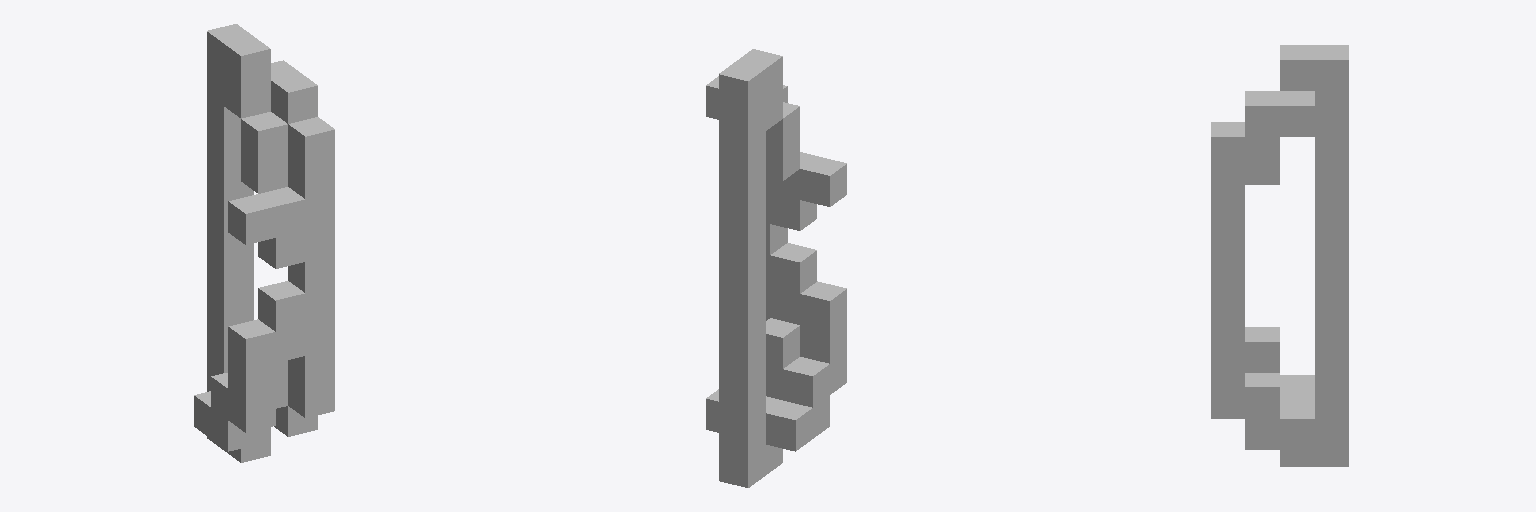
File: Bow.obj
The picture shows the model from 3 angles: view 1: azimuth 30°, elevation 25°; view 2: azimuth 150°, elevation 25°; view 3: azimuth 270°, elevation 25°; orthographic projection.
Parts seen in each view (by area): view 1: object 1; view 2: object 1; view 3: object 1.
Boxes of the visible parts, box(x1,y1,x2,y2) form: object 1: box(194, 24, 334, 462); object 1: box(706, 49, 846, 487); object 1: box(1211, 45, 1348, 466).
Size of the model in its own units: 0.3 by 1.3 by 0.4.